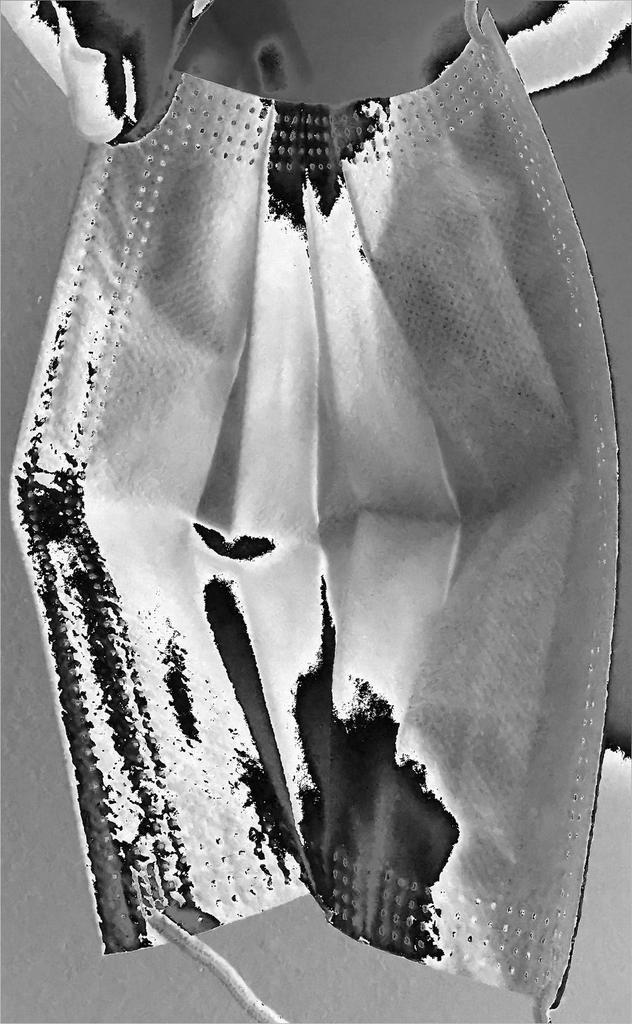High GSM: (90, 150, 579, 901)
